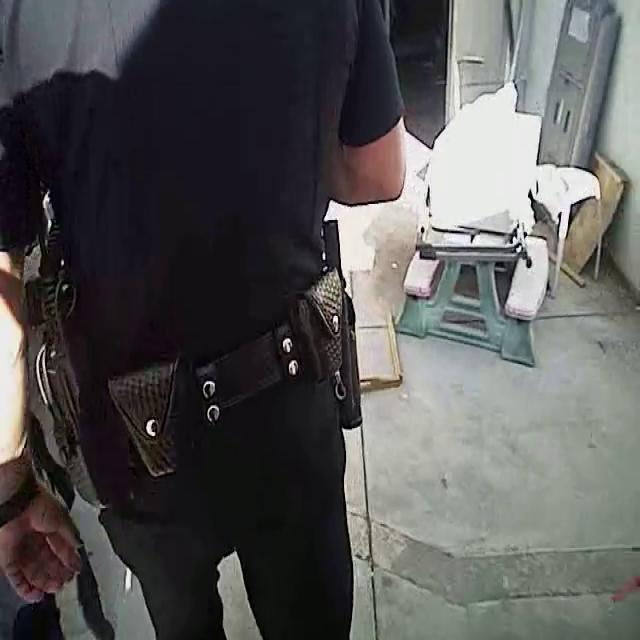gun: (303, 212, 401, 432)
